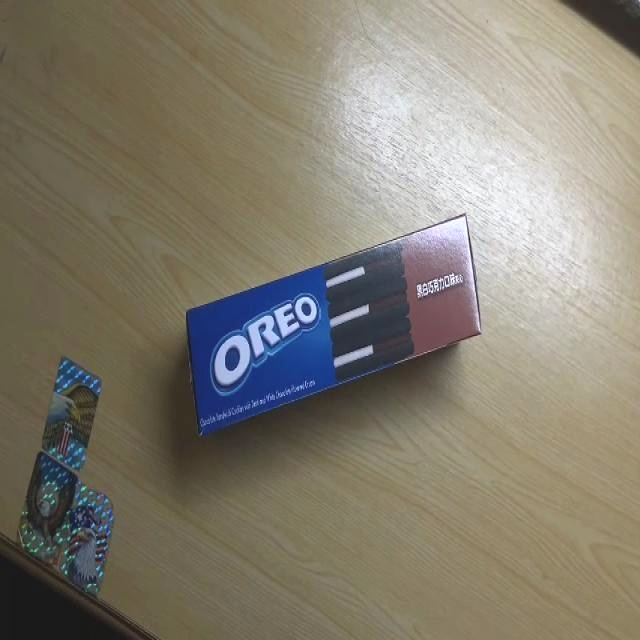Oreo: (186, 212, 483, 436)
